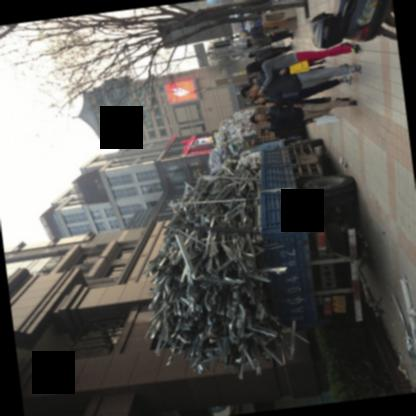handbag: (312, 111, 341, 127), (289, 59, 309, 73)
